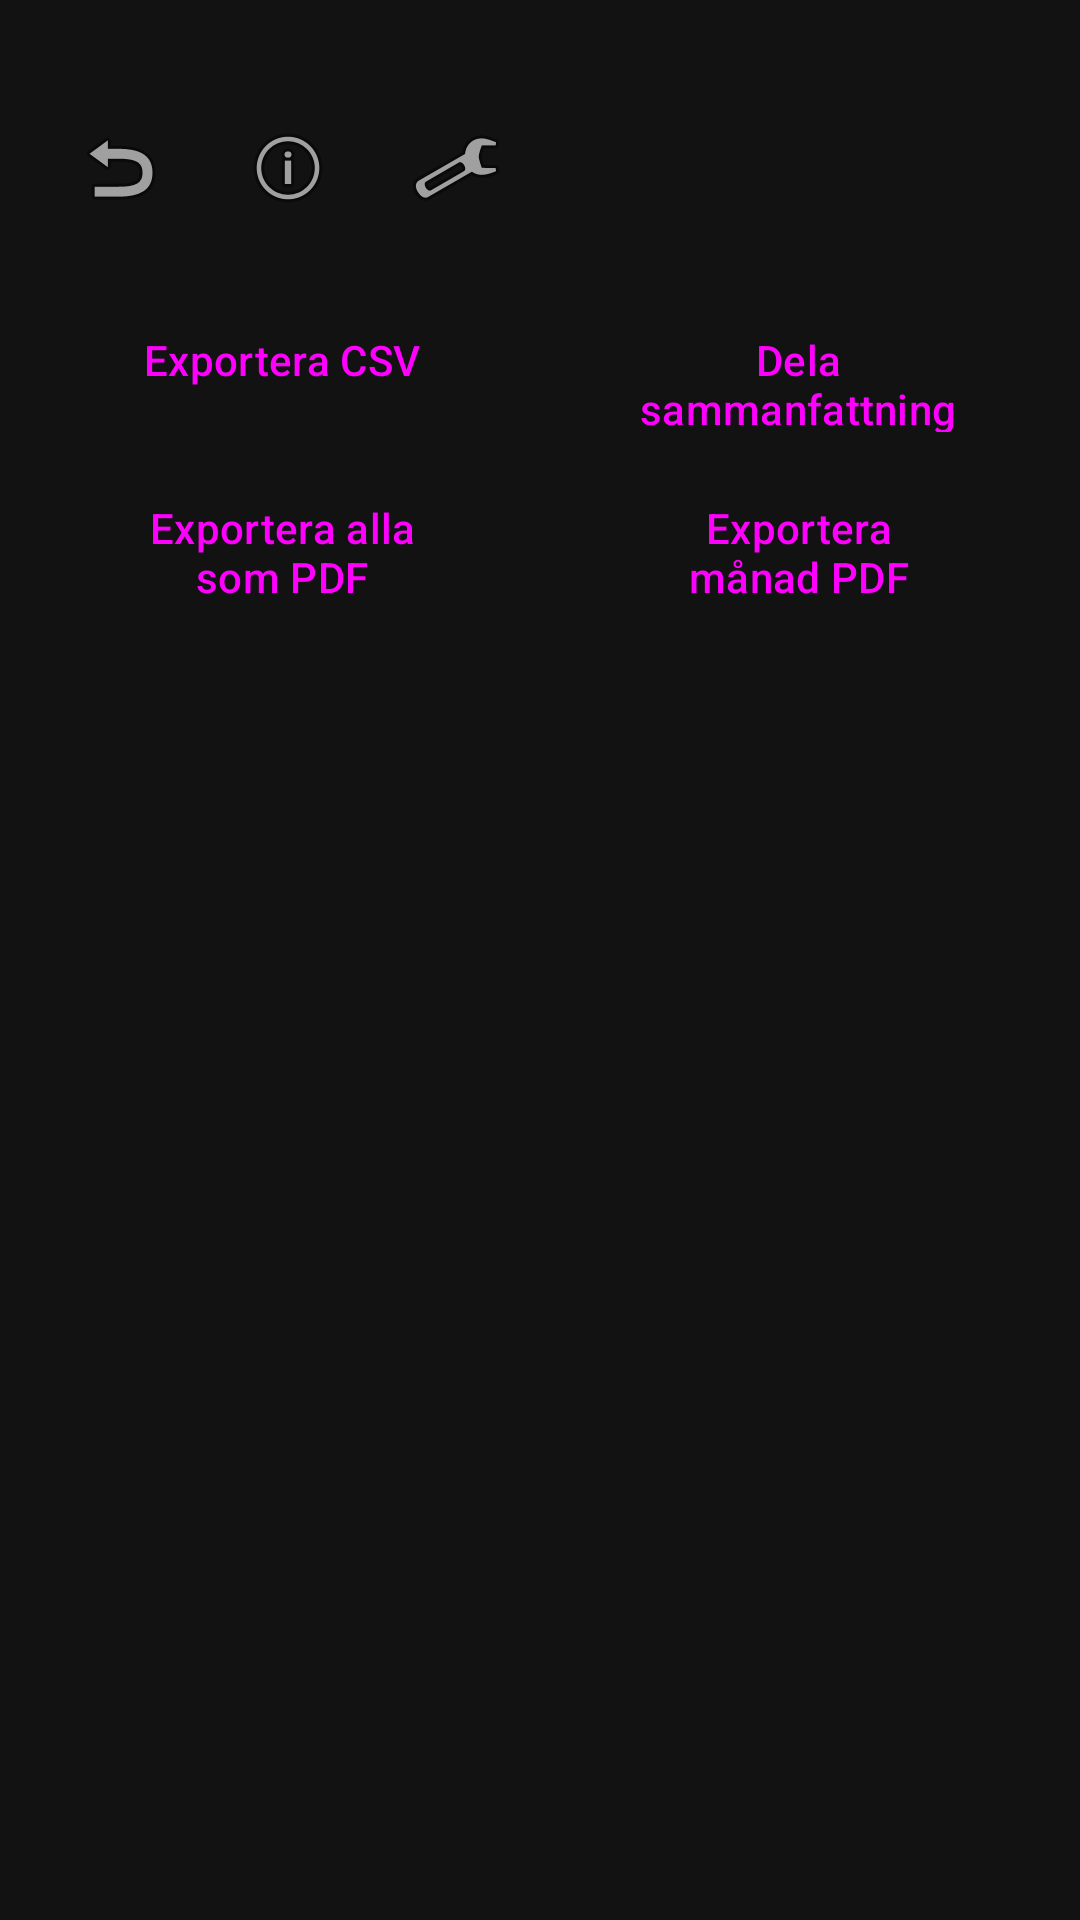

Screen size 1080px×1920px. Icon name, then its box in pixels as BBox(x1, y1, x2, y2):
Inställningar: BBox(416, 138, 496, 198)
